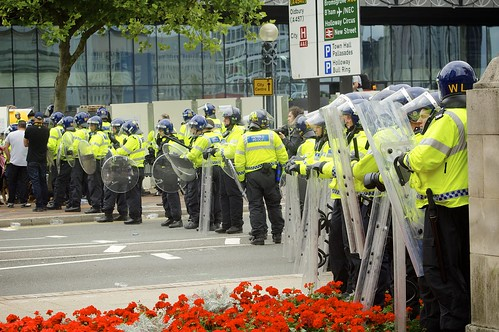light pole: (258, 18, 285, 128)
policeman: (417, 60, 477, 332), (236, 103, 288, 250), (183, 110, 224, 230), (148, 122, 189, 228), (216, 105, 247, 237), (120, 119, 148, 224), (80, 116, 107, 213), (57, 116, 81, 205)
sign: (288, 1, 358, 79)
street: (3, 204, 316, 296)
tree: (1, 1, 261, 96)
